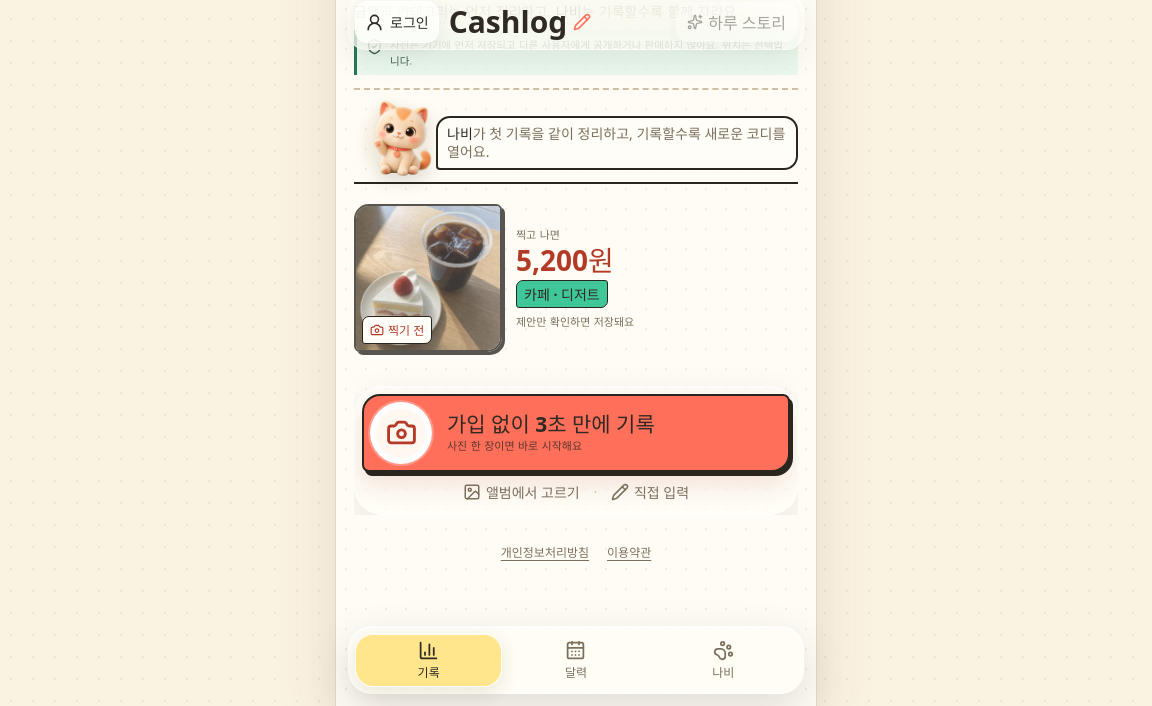
Test case: Cashlog photo MVP › lets a user add manual income via 수입 toggle
(page scrolled)
Click the button "직접 입력".
click(650, 492)  # box [604,477,696,507]
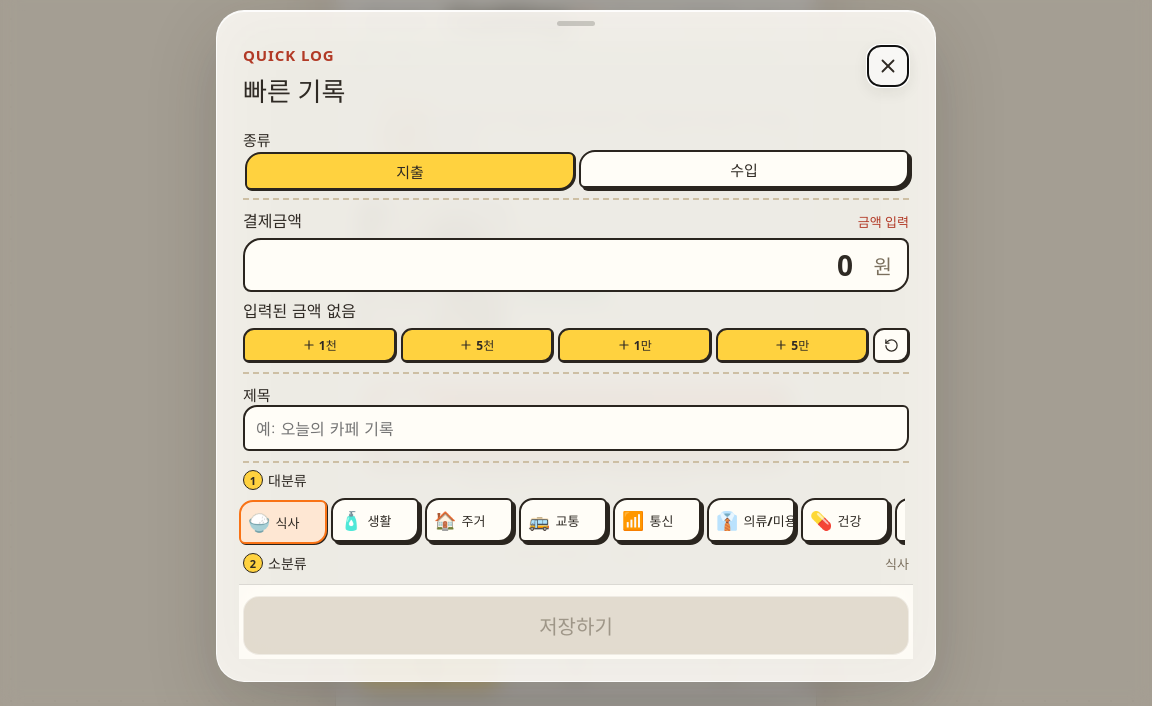
Click the button "수입".
click(744, 169)  # box [579,150,909,188]
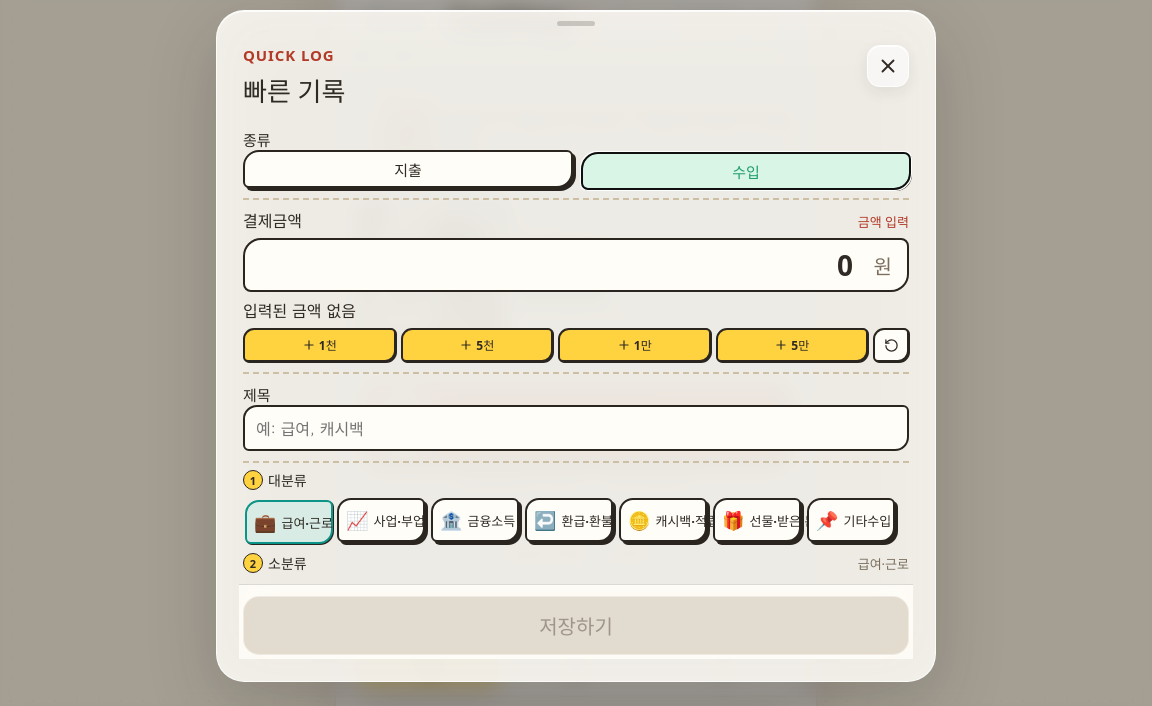
Type "환급" into the field labelled "제목".
click(576, 428); type("환급")  # box [243,405,909,451]
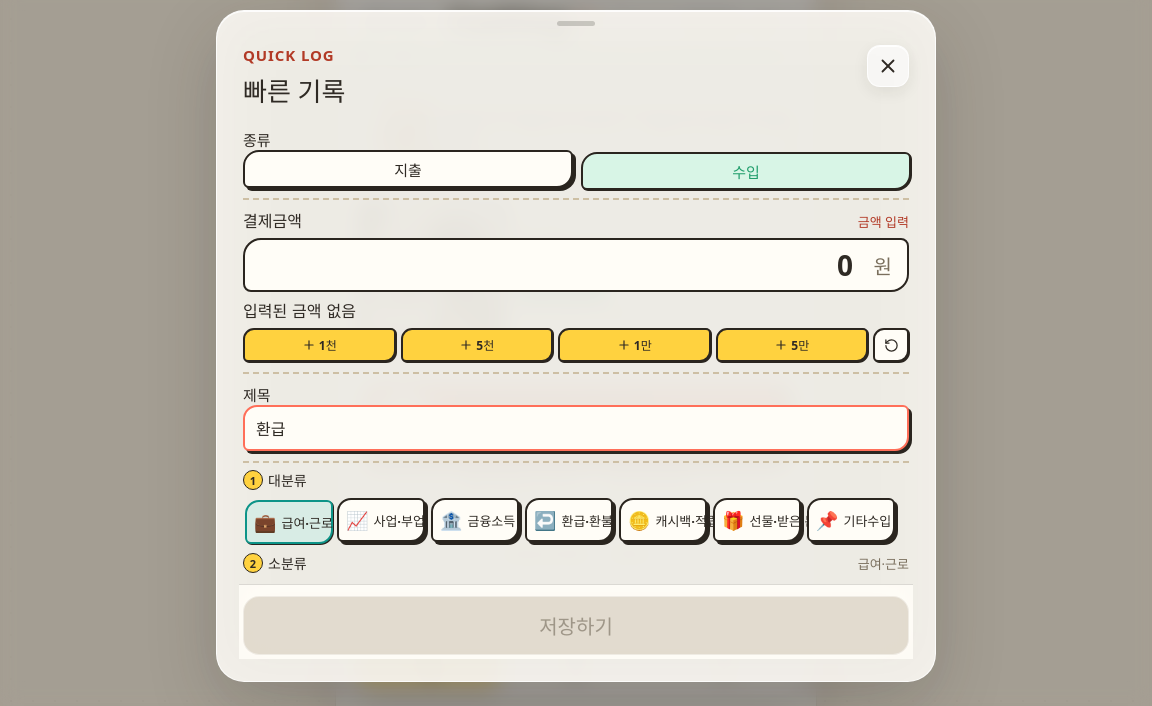
Type "12000" into the field labelled "금액".
click(576, 265); type("12000")  # box [243,238,909,292]
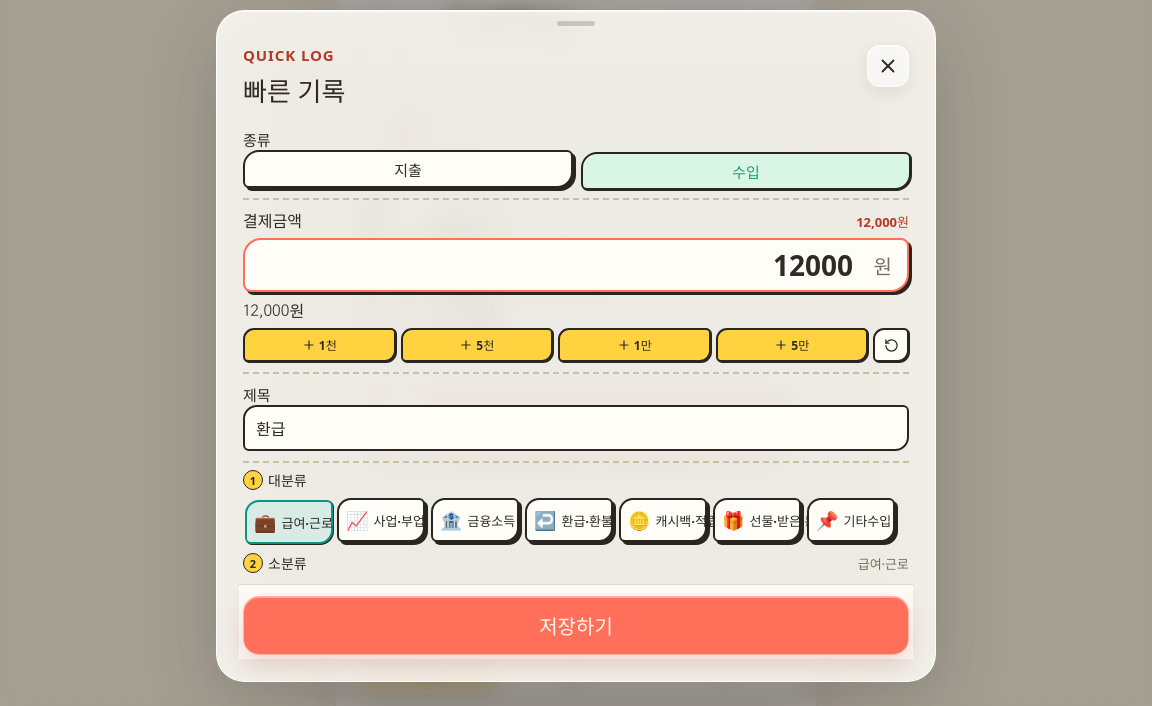
Click the button "저장하기".
click(576, 626)  # box [243,596,909,655]
(page scrolled)
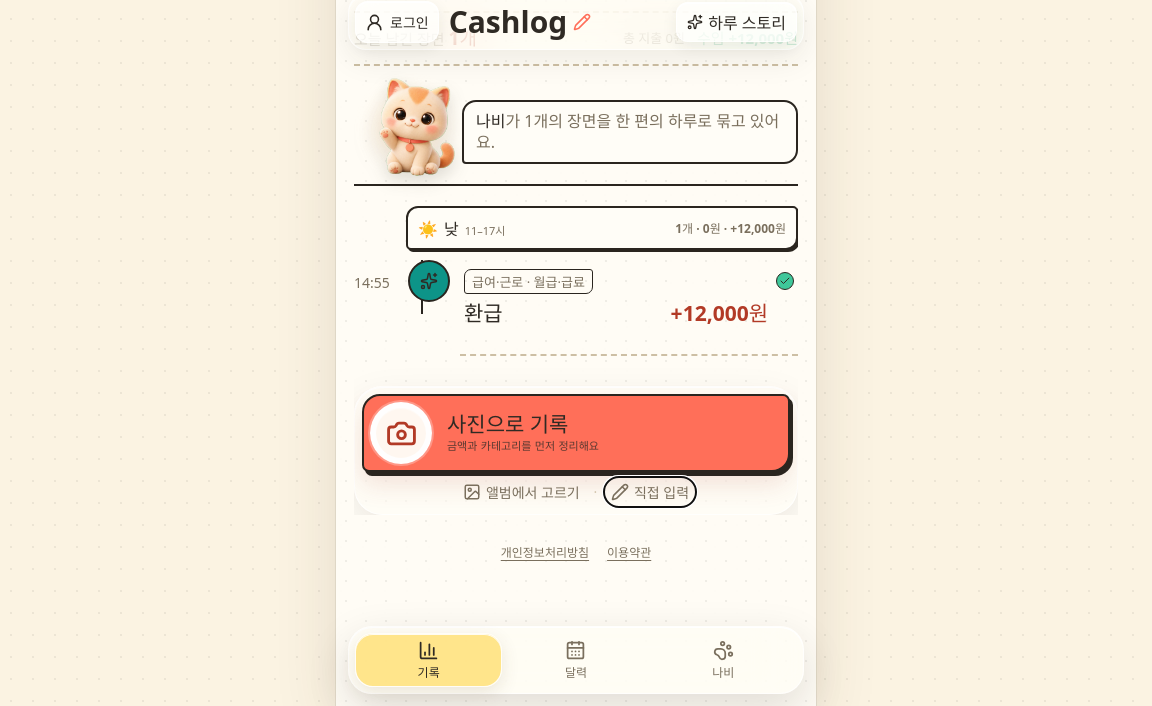
Now the heading "환급" is shown, box [464,297,503,327]
Now the text "+12,000원" is shown, box [671,297,768,327]
Now the text "급여·근로 · 월급·급료" is shown, box [464,269,593,294]
